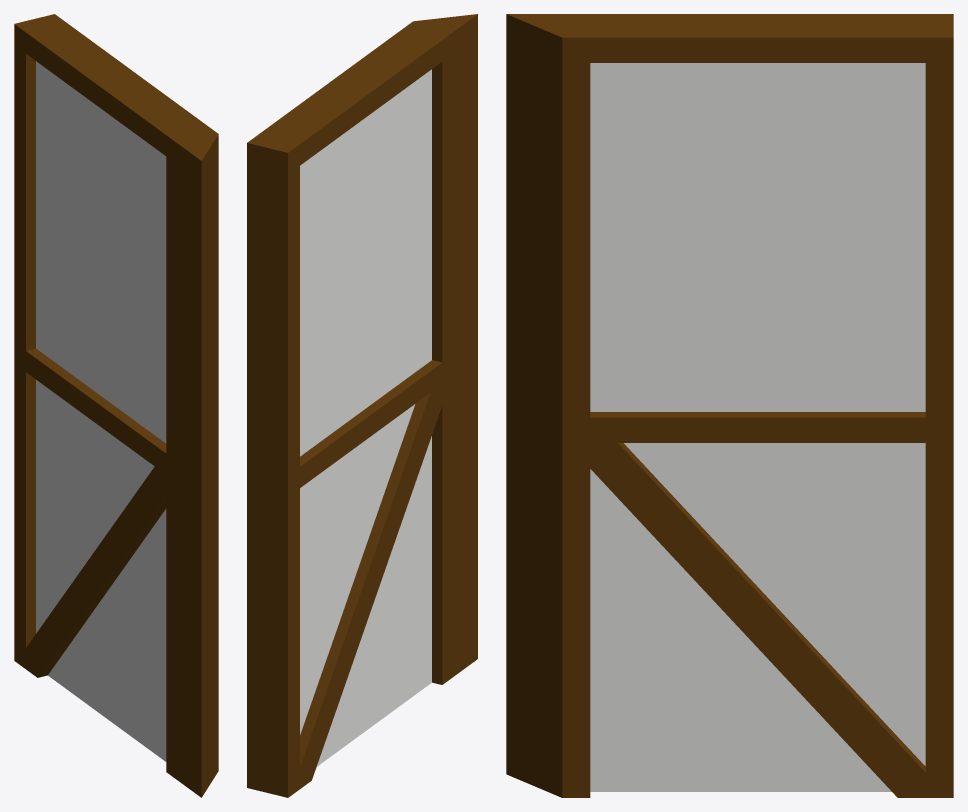
The picture shows the model from 3 angles, left to right: view 1: azimuth 30°, elevation 25°; view 2: azimuth 150°, elevation 25°; view 3: azimuth 270°, elevation 25°; orthographic projection. The views are drawn at different scales.
Bounding box in the file's own units: 16 × 240 × 128.
1 material, 1 textured.
